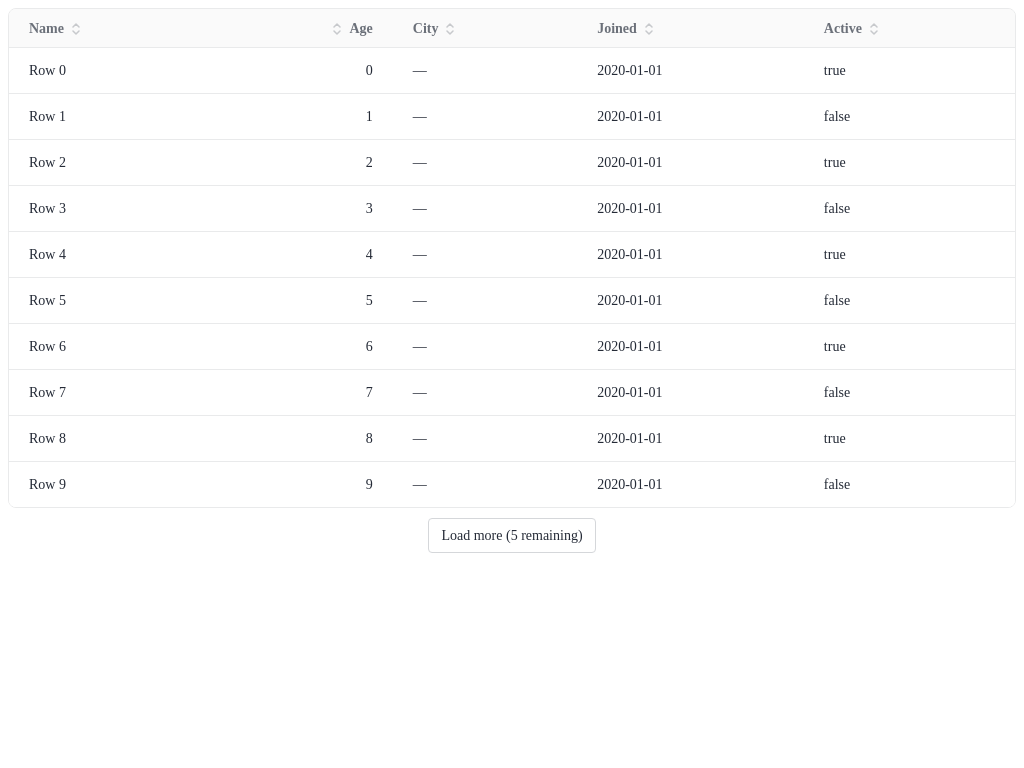
Test: pagination variants › loadMore accumulates by paging; hidden when exhausted
This screenshot has width=1024, height=768.
Click the button "Load more (5 remaining)": (512, 536) [428, 518, 596, 553]
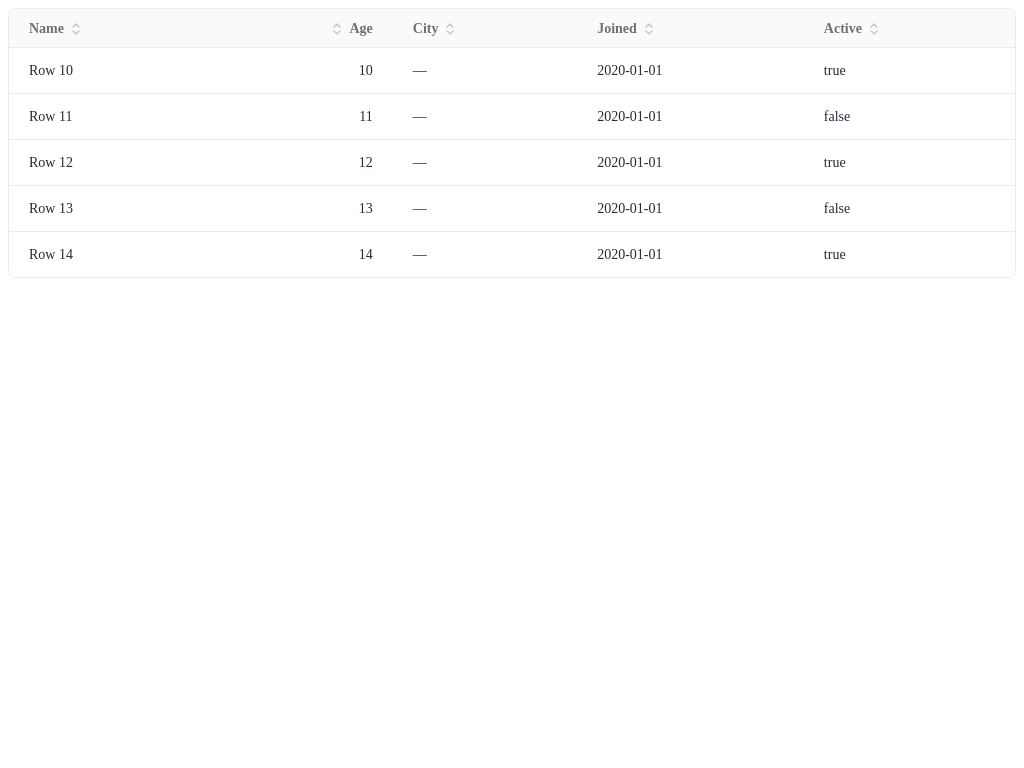
Check: the button "Load more" is gone
